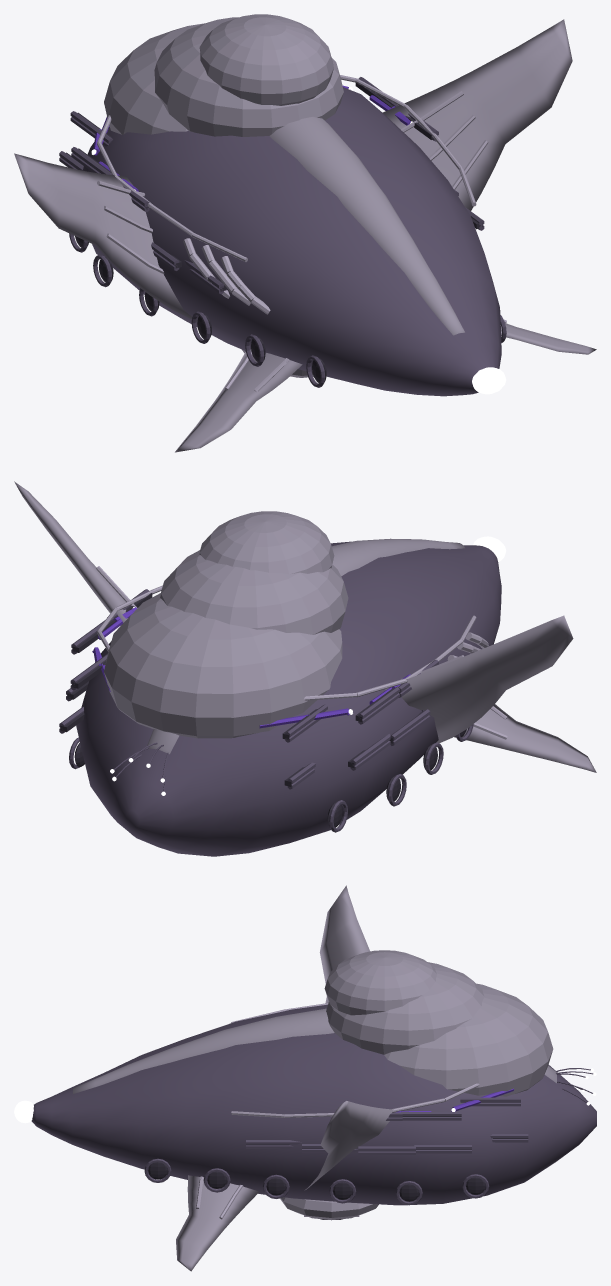
3 views of the same model, one above another, from view 1: azimuth 30°, elevation 25°; view 2: azimuth 150°, elevation 25°; view 3: azimuth 270°, elevation 25° (orthographic). The views are drawn at different scales.
Visible parts, largest first — view 1: RIMWARD_HULL, RIMWARD_ENGINE_GLOW; view 2: RIMWARD_HULL; view 3: RIMWARD_HULL.
Boxes of the visible parts, x1,y1,x2,y2 form: RIMWARD_HULL: (14,14,596,452); RIMWARD_ENGINE_GLOW: (472,367,506,394); RIMWARD_HULL: (14,481,596,856); RIMWARD_HULL: (31,885,596,1271).
Size of the model in its own units: 13.8 by 7.62 by 15.78.
